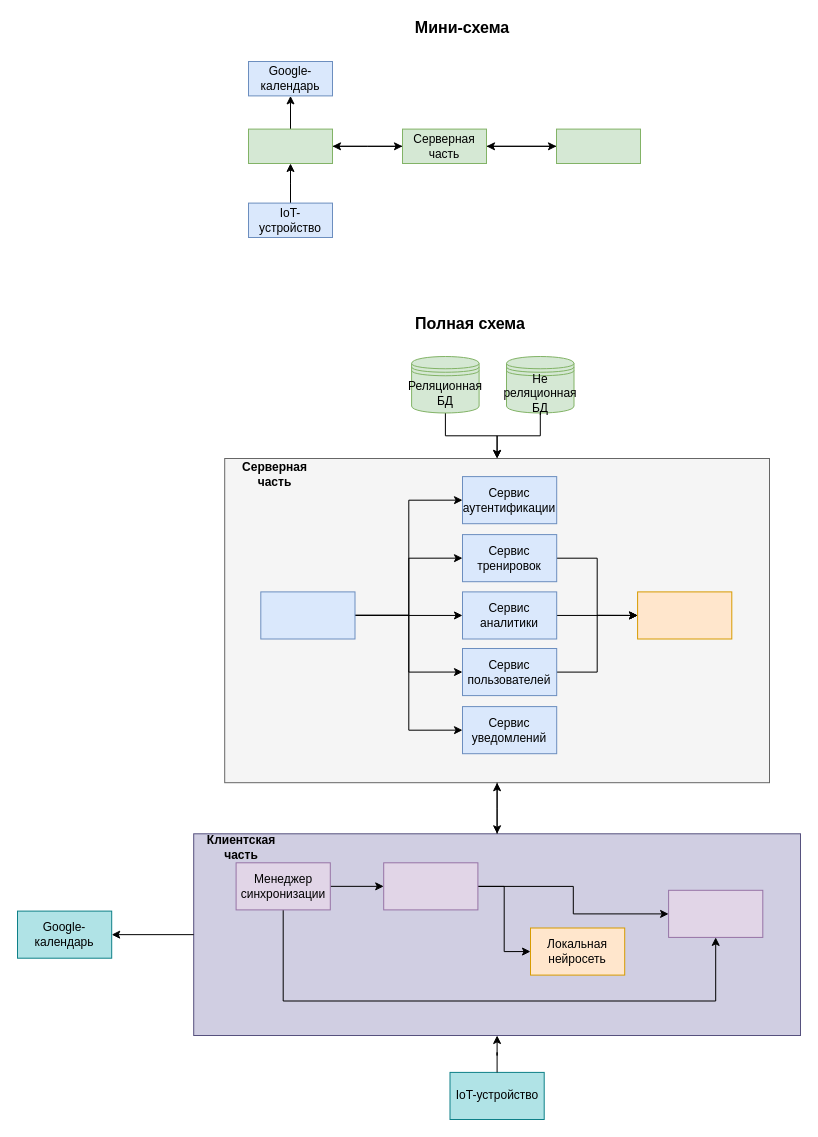
Image size: 818x1137. Some labels were removed from this diagram. Each missing label, with the box of its shape:
API Gateway: (260, 591, 355, 639)
База данных: (556, 128, 640, 164)
Локальное хранилище: (668, 889, 763, 937)
Мобильное приложение: (248, 128, 332, 164)
Нейронная сеть: (637, 591, 732, 639)
Пользовательский интерфейс: (383, 862, 478, 910)
